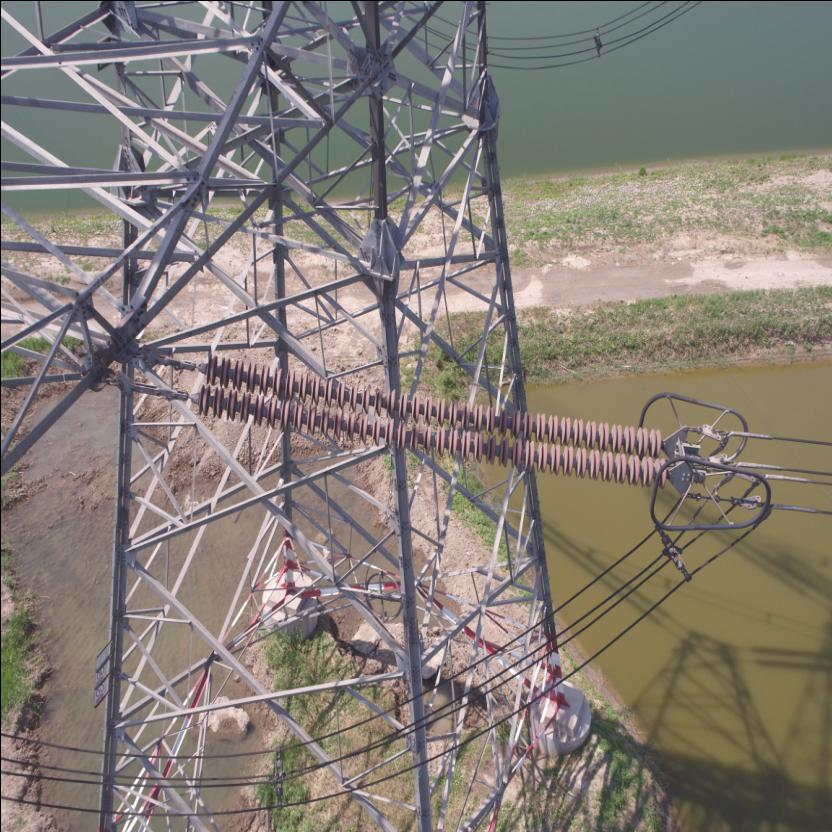insulator: (160, 348, 678, 489)
